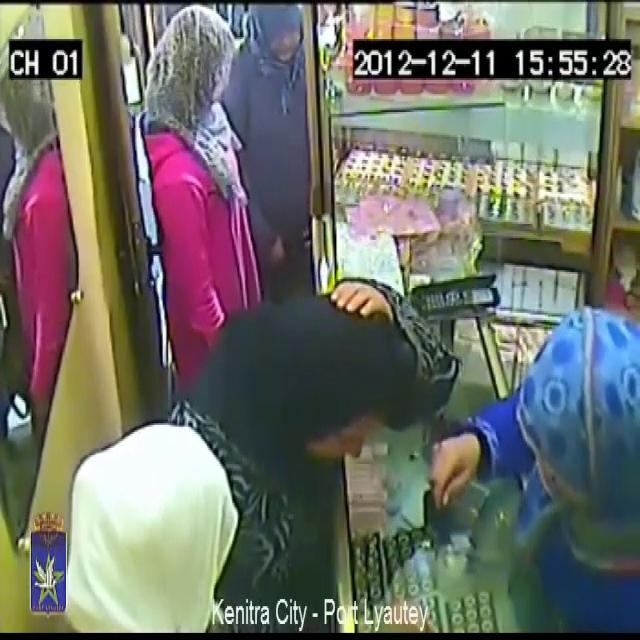normal: (459, 189, 640, 640), (76, 404, 344, 640), (133, 2, 246, 317), (275, 276, 406, 494), (228, 0, 314, 192)
